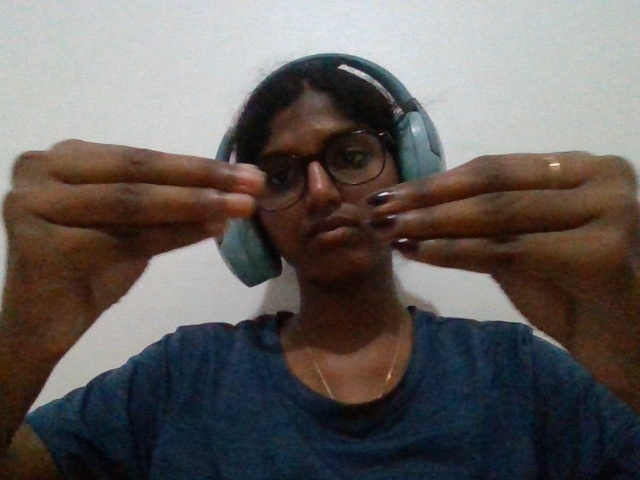More: (2, 114, 637, 395)
